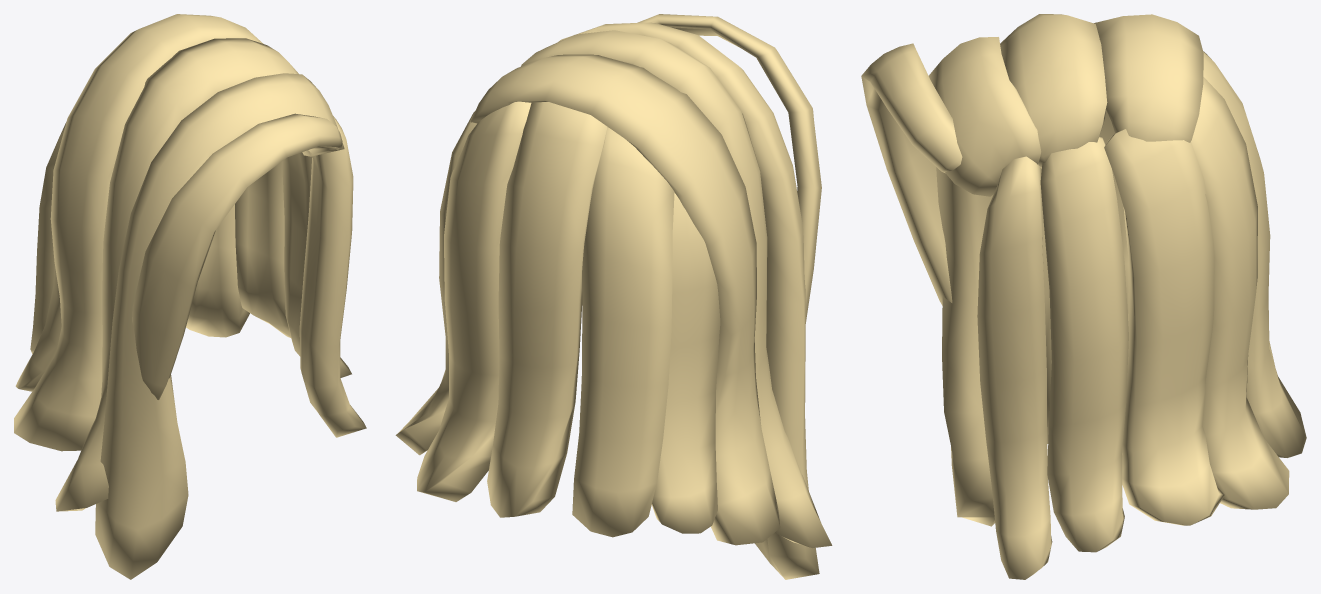
The model's file is Hair.fbx.
The picture shows the model from 3 angles, left to right: view 1: azimuth 30°, elevation 25°; view 2: azimuth 150°, elevation 25°; view 3: azimuth 270°, elevation 25°; orthographic projection. The views are drawn at different scales.
Visible parts, largest first — view 1: Shoes_01.013; view 2: Shoes_01.013; view 3: Shoes_01.013.
Boxes of the visible parts, x1,y1,x2,y2 form: Shoes_01.013: [14, 14, 366, 579]; Shoes_01.013: [395, 14, 832, 579]; Shoes_01.013: [861, 14, 1306, 579].
Bounding box in the file's own units: 0.5357 × 0.7585 × 0.5413.
